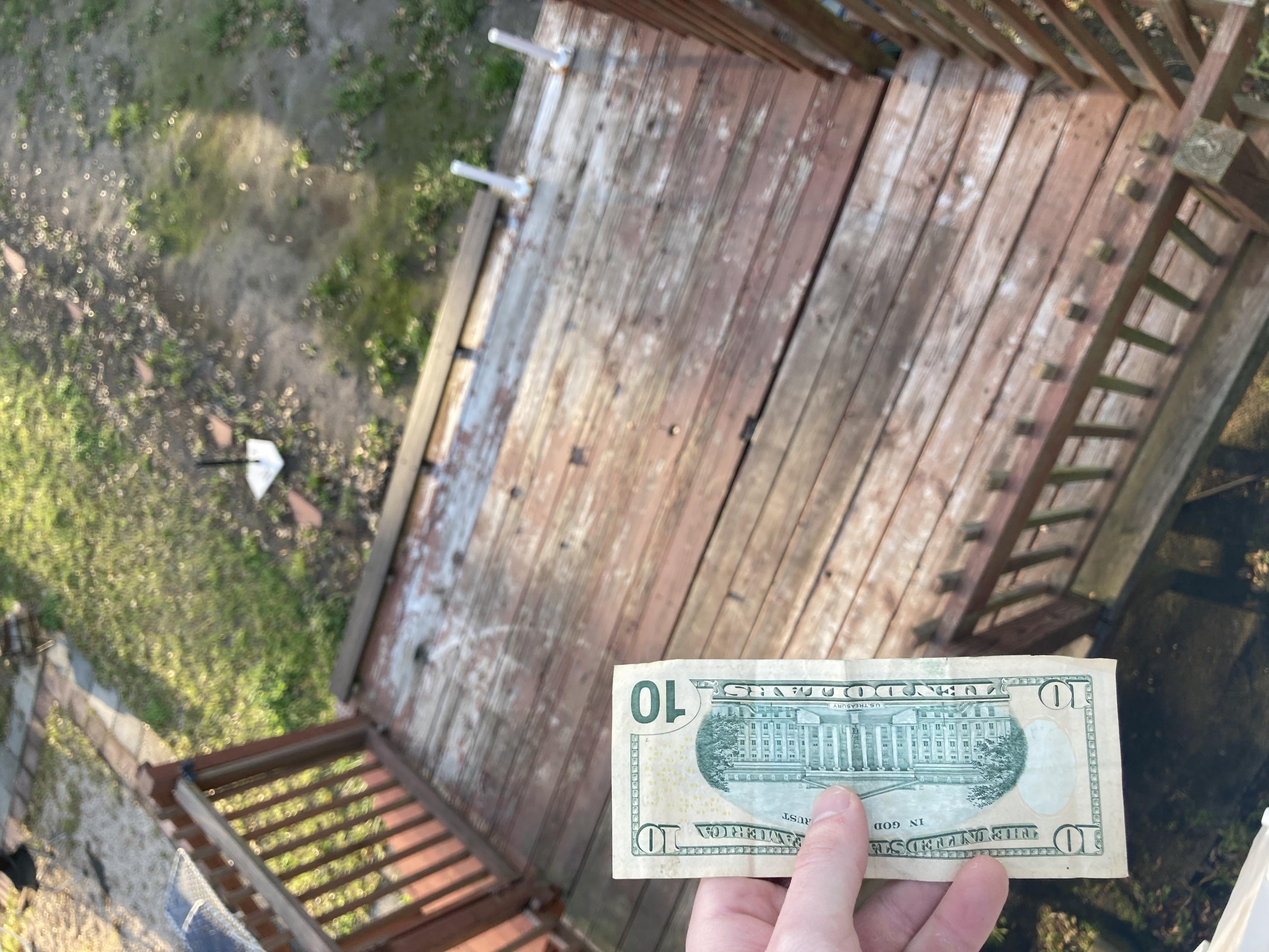ten-back: (98, 461, 392, 843)
